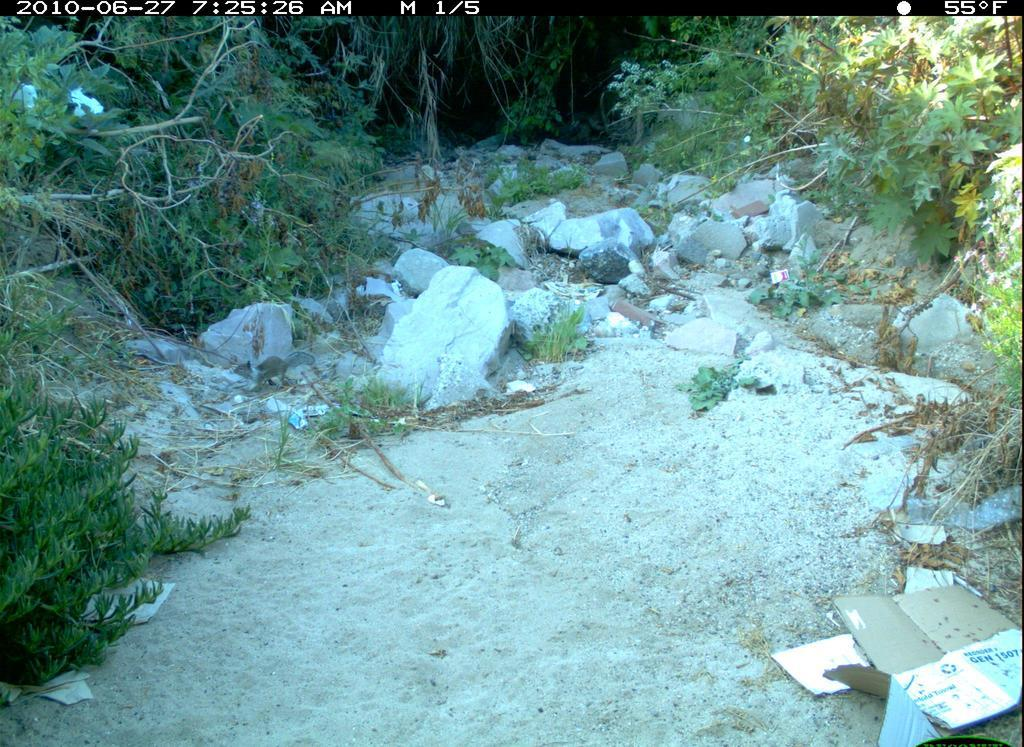squirrel: (225, 345, 332, 402)
